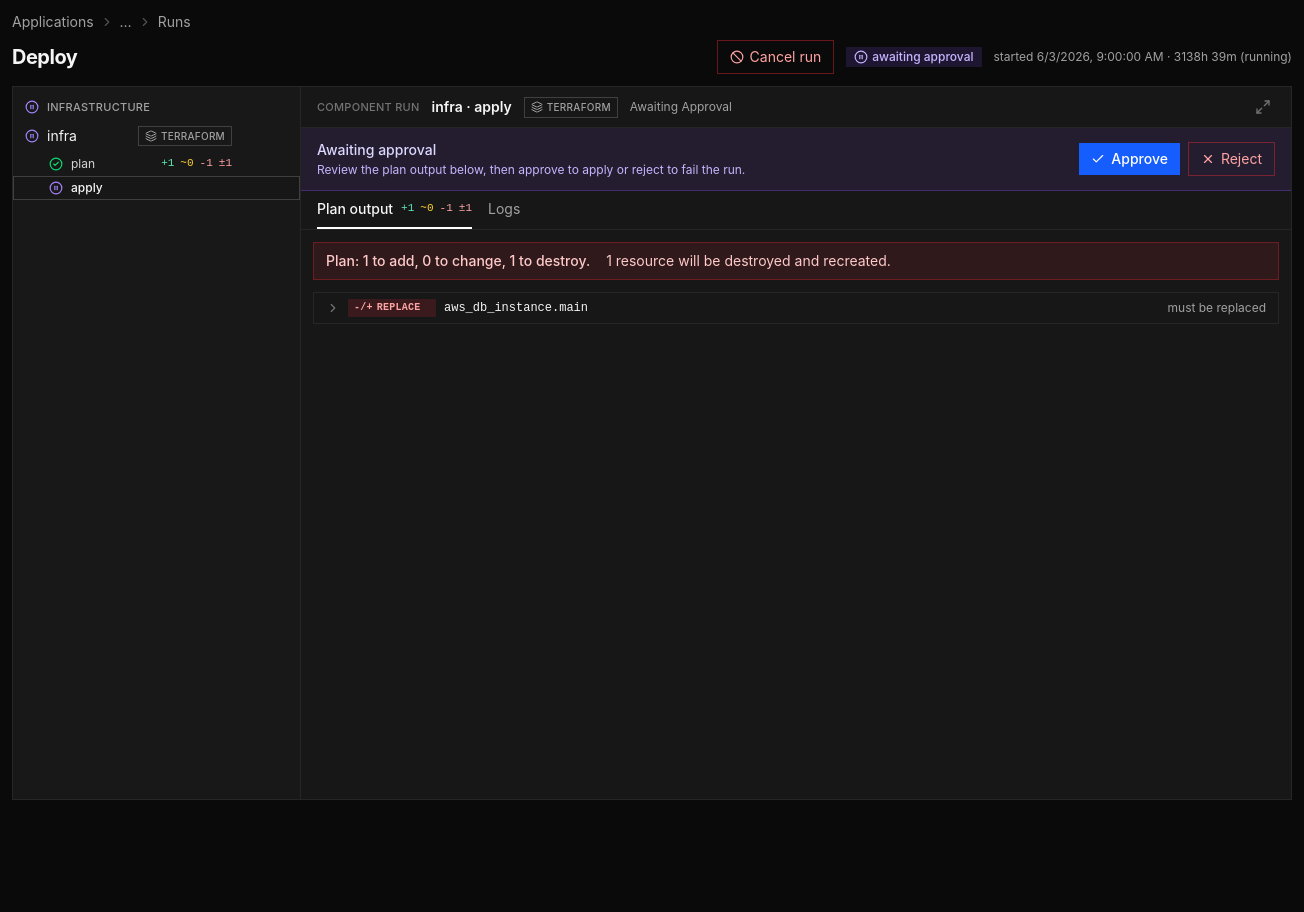
Scenario: WorkflowRunView › leads with a settled tofu plan step's own parsed plan and shows counts on its row
Check: the 1st text "+1" is shown, box [161,156,174,171]
Check: the 1st text "±1" is shown, box [219,156,232,171]
Click the button "plan +1 ~0 -1 ±1" at (56, 164), box [13,152,300,176]
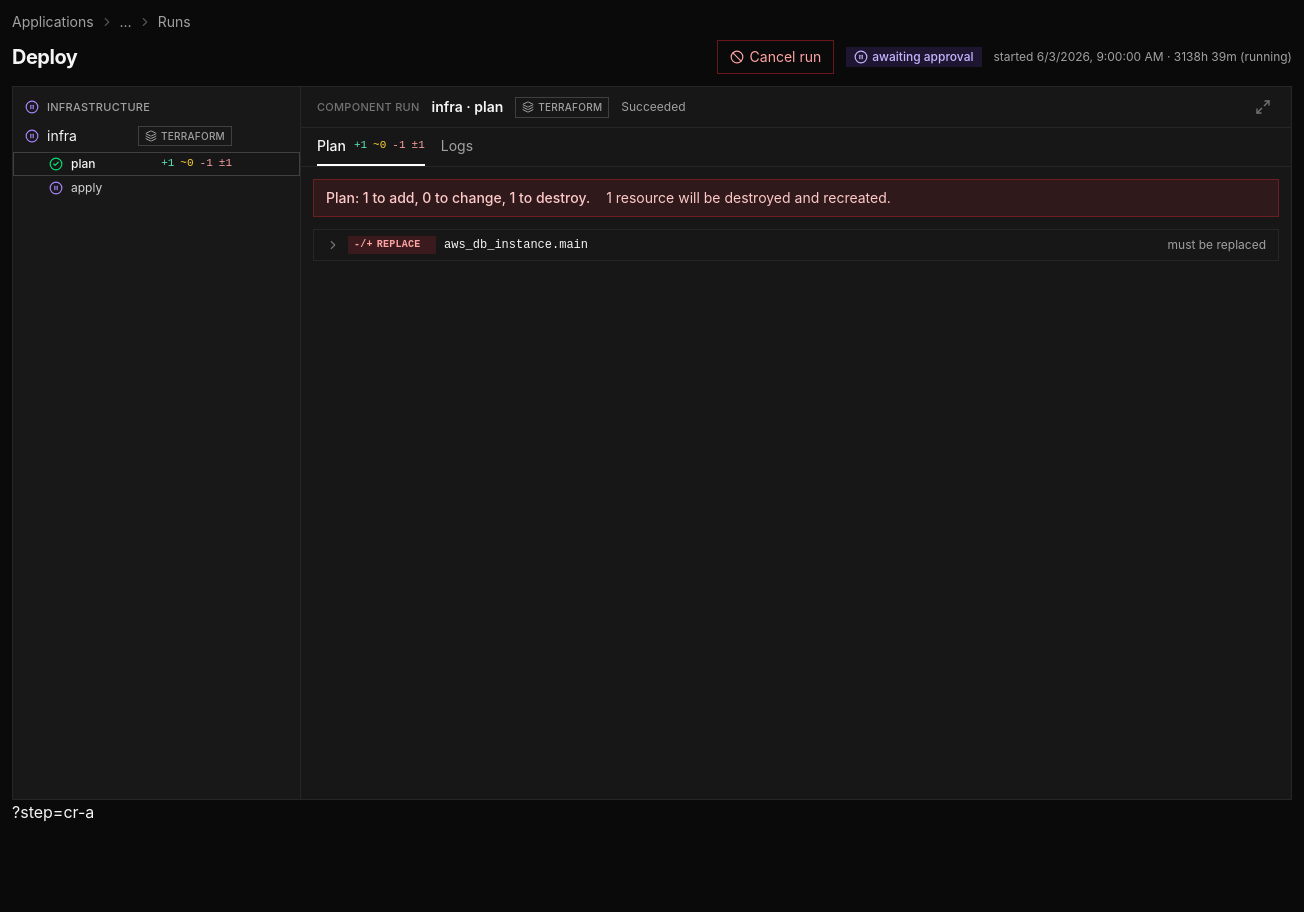
Check: the text "Plan: 1 to add, 0 to change, 1 to destroy." is shown, box [326,188,590,208]
Check: the button "Plan +1 ~0 -1 ±1" is shown, box [317,128,425,166]
